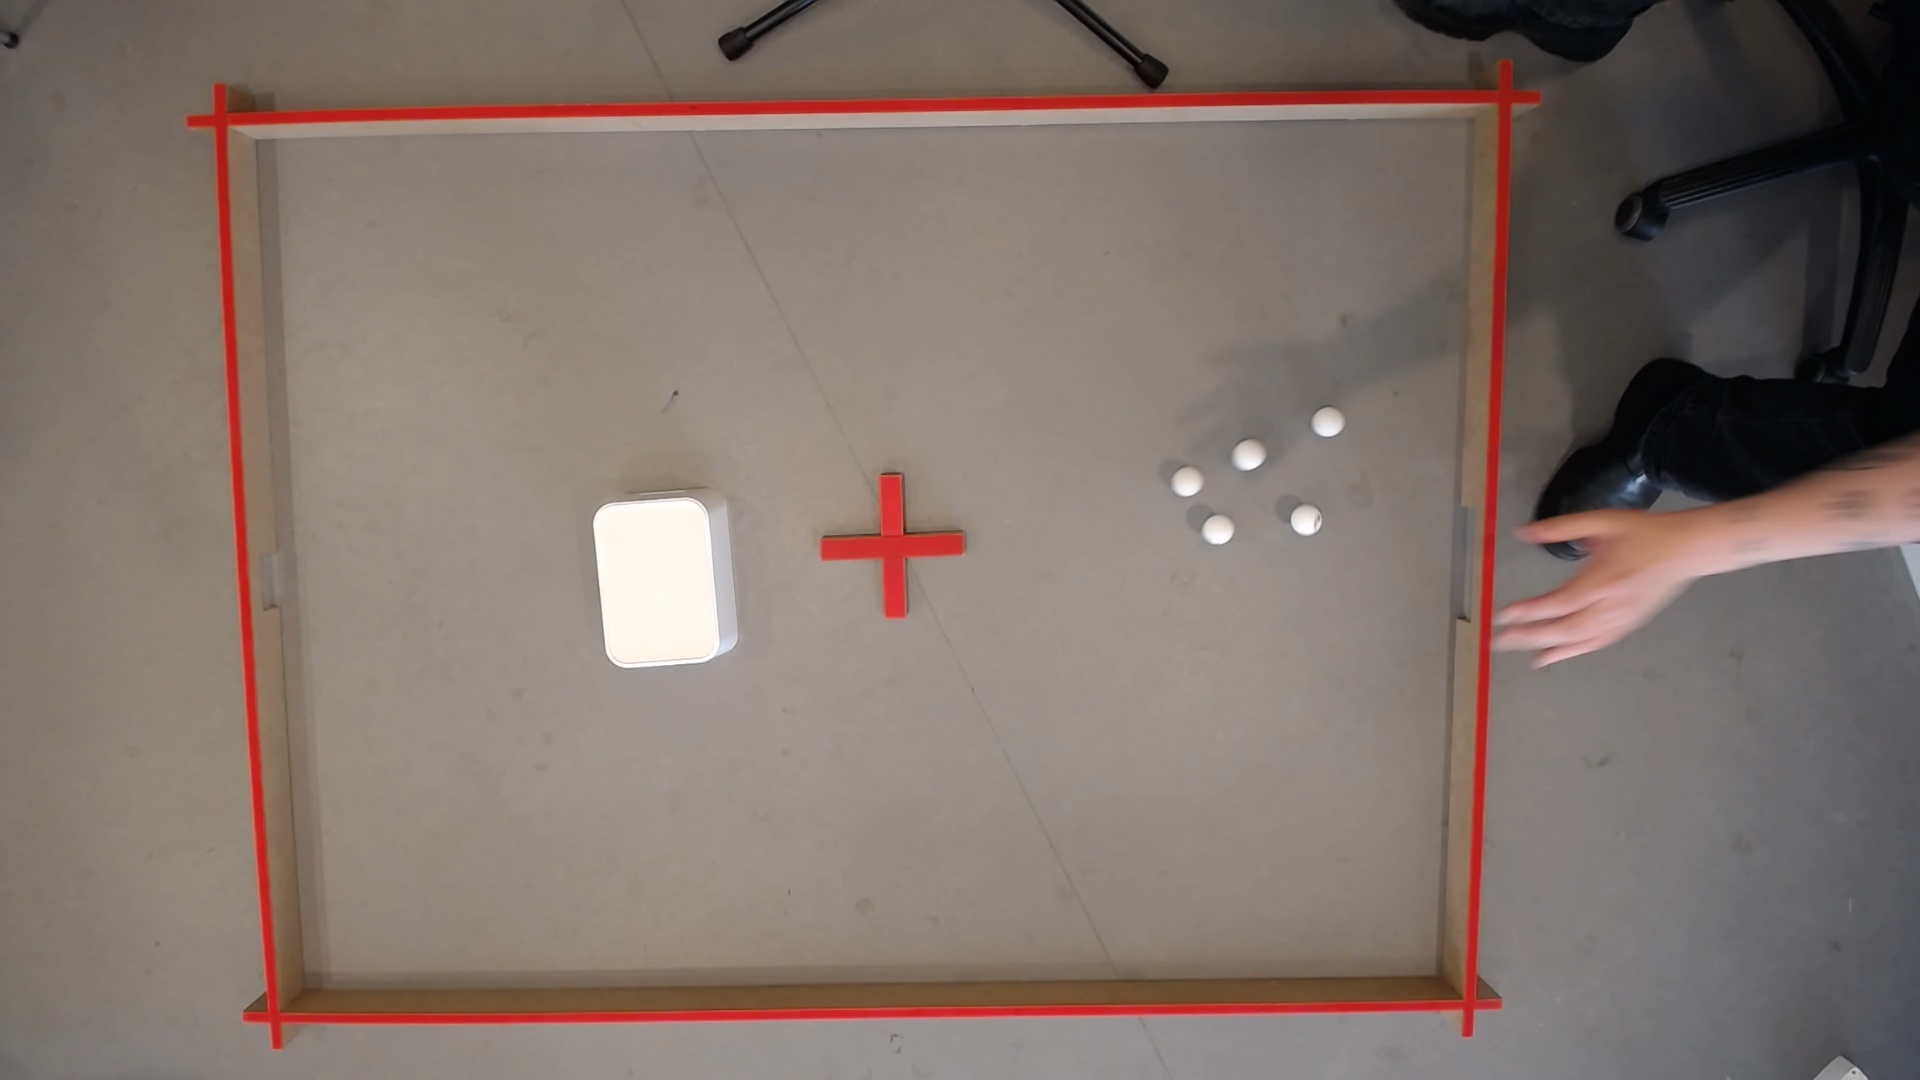balls: (588, 491, 736, 671), (1675, 531, 1830, 579), (1199, 516, 1234, 549), (1287, 505, 1320, 539), (1232, 444, 1262, 473), (1312, 414, 1341, 439), (1175, 476, 1200, 495)
car: (1547, 645, 1586, 662)
